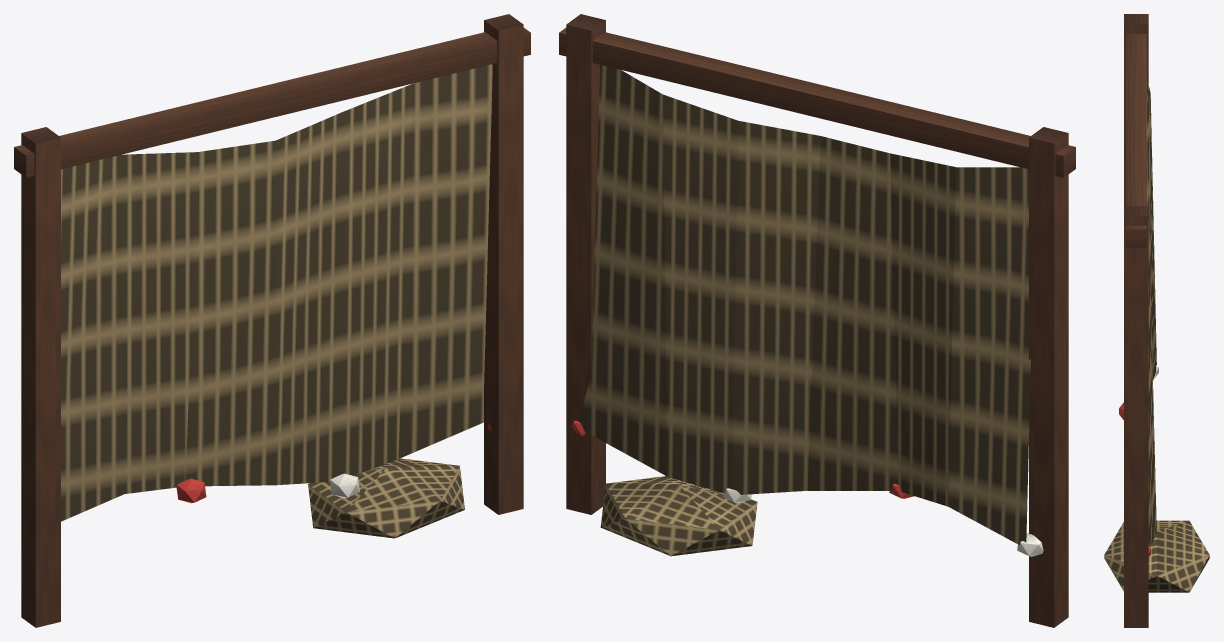
The model's file is prop_fishing_net_01.glb.
3 views of the same model, side by side, from view 1: azimuth 30°, elevation 25°; view 2: azimuth 150°, elevation 25°; view 3: azimuth 270°, elevation 25° (orthographic). The views are drawn at different scales.
Parts seen in each view (by area): view 1: prop_fishing_net_01; view 2: prop_fishing_net_01; view 3: prop_fishing_net_01.
Boxes of the visible parts, box(x1,y1,x2,y2) form: prop_fishing_net_01: box(14, 14, 530, 627); prop_fishing_net_01: box(559, 14, 1075, 627); prop_fishing_net_01: box(1104, 14, 1209, 627).
Bounding box in the file's own units: 2.4 × 2.22 × 0.5104.
Materials: 1 (1 with a texture image).
